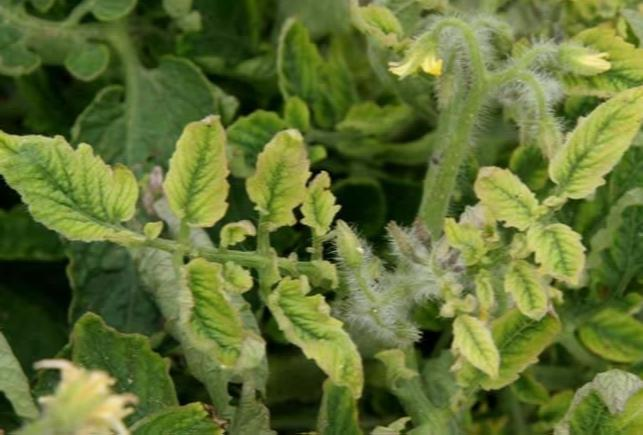Tomato leaf yellow virus: (0, 122, 148, 255), (264, 275, 370, 413), (549, 85, 643, 226), (173, 252, 257, 394), (172, 109, 229, 233), (533, 219, 599, 325), (469, 151, 544, 243), (251, 111, 302, 221), (445, 318, 510, 393)
